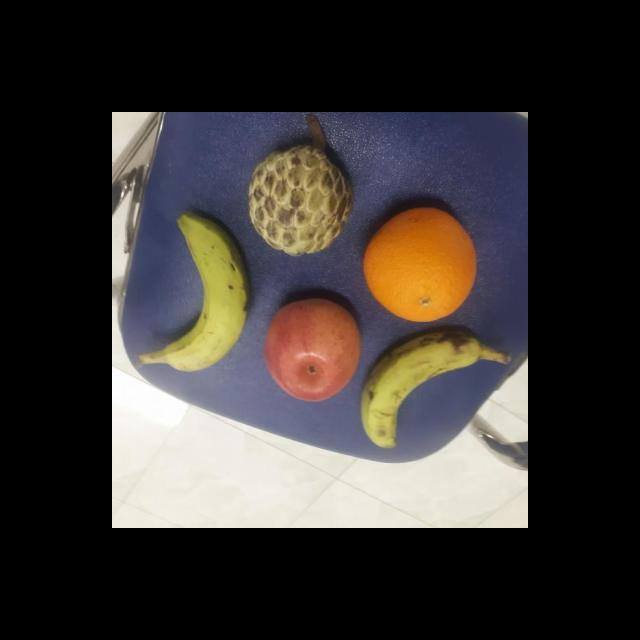Sakya fruit: (244, 141, 359, 255)
apple: (262, 295, 364, 402)
banana: (358, 327, 482, 452), (159, 210, 251, 375)
orange: (362, 204, 482, 327)
